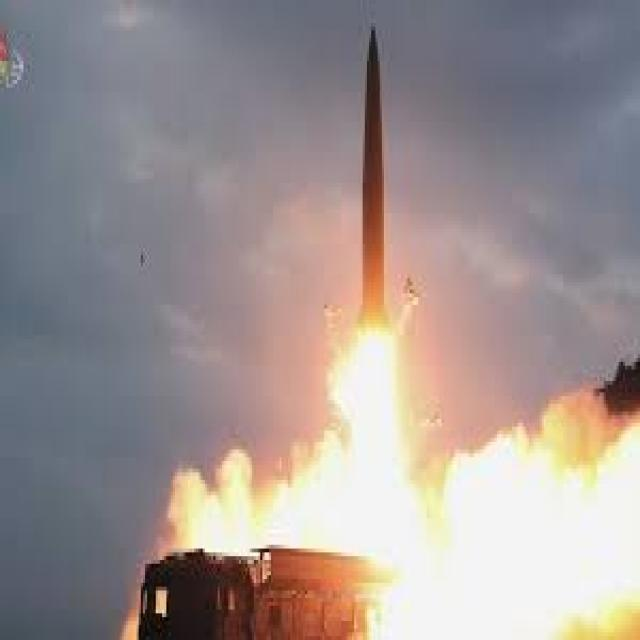missile: (354, 6, 391, 336)
